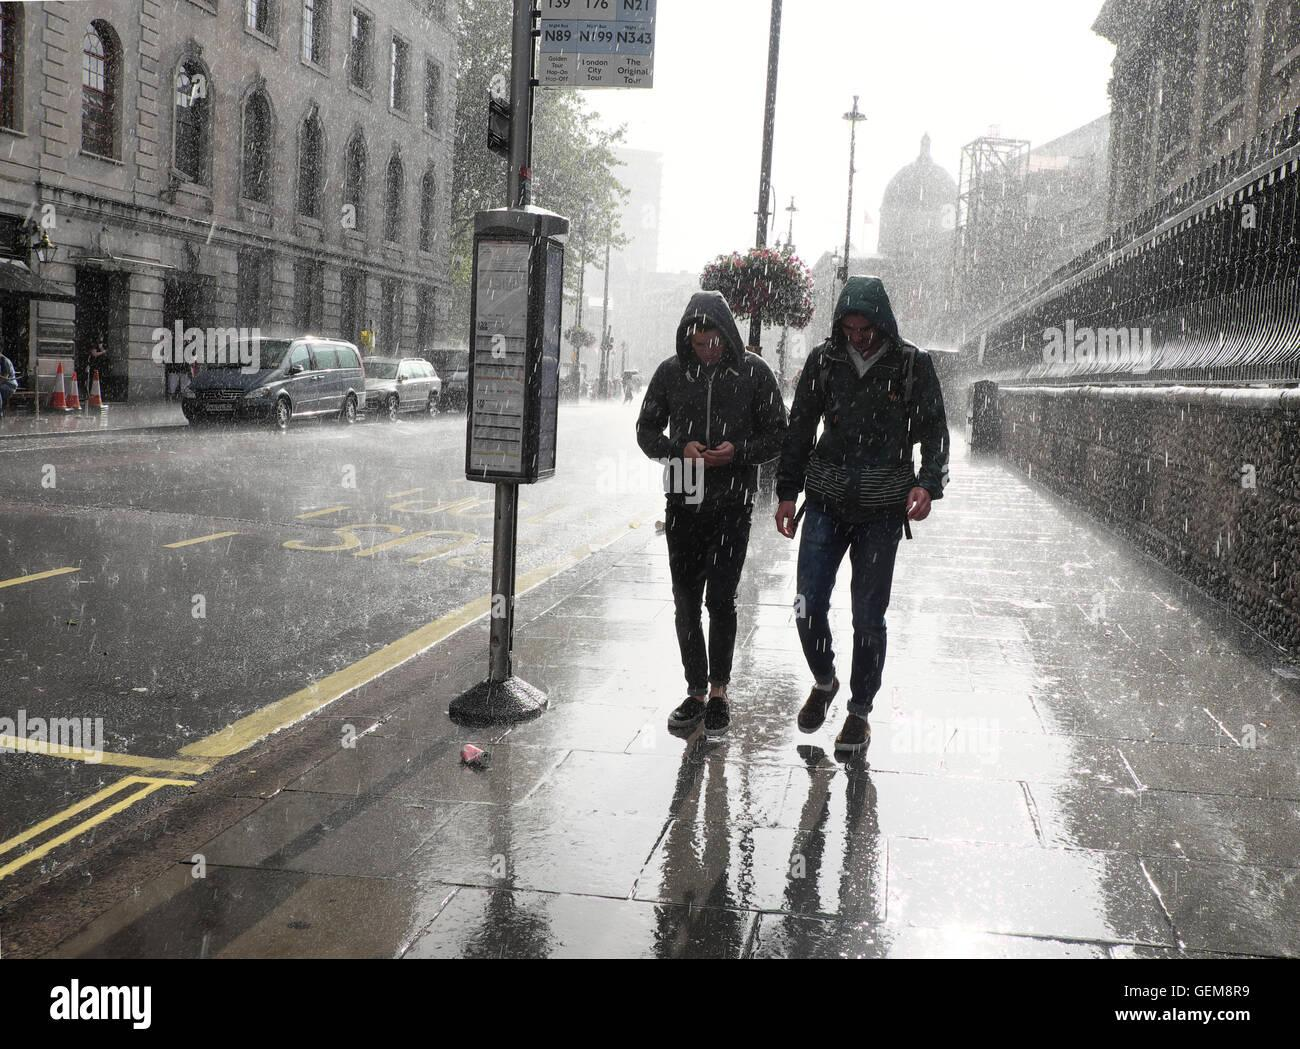car: (179, 327, 373, 444), (343, 346, 450, 426)
pedestrian: (769, 260, 969, 772), (614, 286, 793, 753)
traffic sign: (446, 1, 678, 724)
